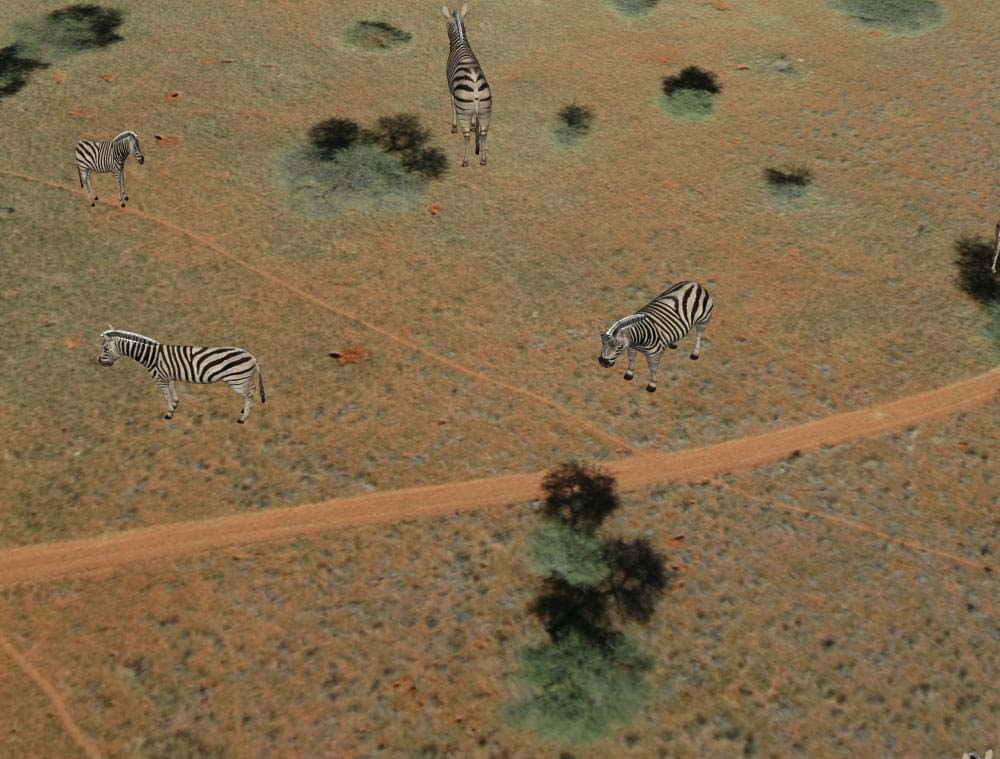zebra: (93, 321, 269, 429), (599, 278, 713, 396), (437, 1, 506, 170), (72, 129, 145, 212)
